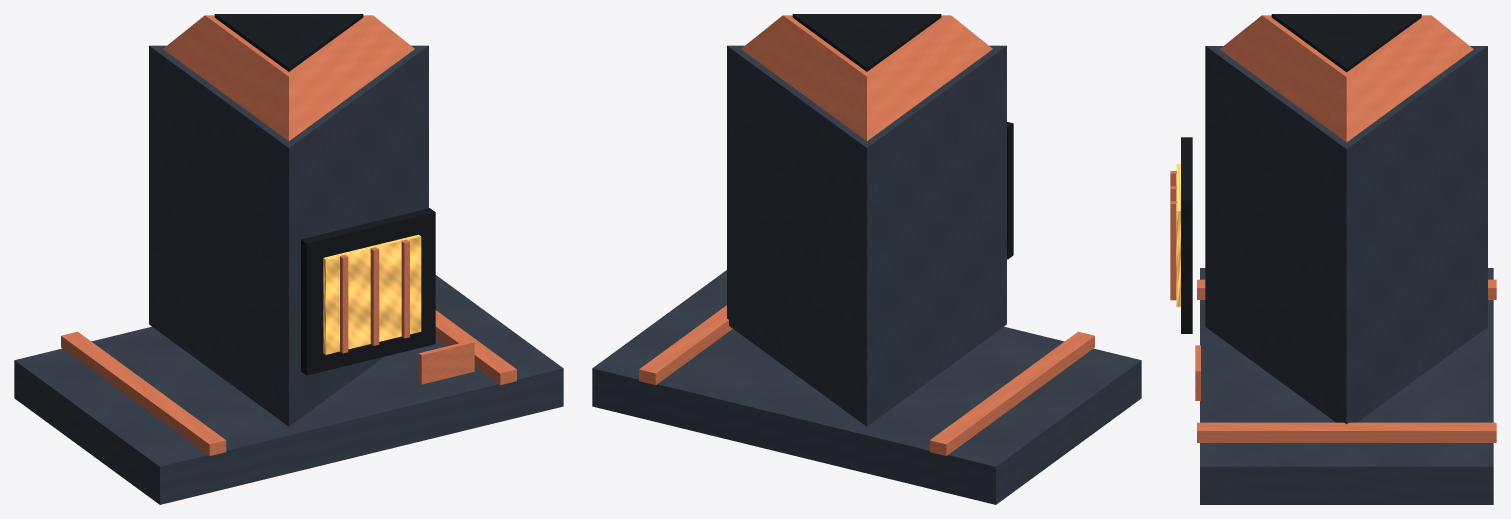
The model's file is atlas100-s026-a01.lod2.glb.
The picture shows the model from 3 angles, left to right: view 1: azimuth 30°, elevation 25°; view 2: azimuth 150°, elevation 25°; view 3: azimuth 270°, elevation 25°; orthographic projection.
Visible parts, largest first — view 1: atlas100-s026-a01:part-003, atlas100-s026-a01:part-000, atlas100-s026-a01:part-004, atlas100-s026-a01:part-006, atlas100-s026-a01:part-007, atlas100-s026-a01:part-005, atlas100-s026-a01:part-001, atlas100-s026-a01:part-002, atlas100-s026-a01:part-011, atlas100-s026-a01:part-009, atlas100-s026-a01:part-010, atlas100-s026-a01:part-008; view 2: atlas100-s026-a01:part-003, atlas100-s026-a01:part-000, atlas100-s026-a01:part-004, atlas100-s026-a01:part-005, atlas100-s026-a01:part-001, atlas100-s026-a01:part-002, atlas100-s026-a01:part-006; view 3: atlas100-s026-a01:part-003, atlas100-s026-a01:part-000, atlas100-s026-a01:part-004, atlas100-s026-a01:part-002, atlas100-s026-a01:part-005, atlas100-s026-a01:part-006, atlas100-s026-a01:part-007, atlas100-s026-a01:part-010, atlas100-s026-a01:part-001.
Part boxes in pixels (x1,y1,x2,y2): atlas100-s026-a01:part-003: [149, 45, 428, 426]; atlas100-s026-a01:part-000: [14, 275, 563, 504]; atlas100-s026-a01:part-004: [163, 15, 414, 140]; atlas100-s026-a01:part-006: [301, 208, 435, 375]; atlas100-s026-a01:part-007: [323, 234, 421, 354]; atlas100-s026-a01:part-005: [214, 14, 363, 71]; atlas100-s026-a01:part-001: [61, 331, 226, 455]; atlas100-s026-a01:part-002: [435, 310, 516, 385]; atlas100-s026-a01:part-011: [418, 340, 474, 384]; atlas100-s026-a01:part-009: [370, 247, 379, 345]; atlas100-s026-a01:part-010: [401, 239, 409, 338]; atlas100-s026-a01:part-008: [340, 254, 348, 353]; atlas100-s026-a01:part-003: [727, 45, 1006, 426]; atlas100-s026-a01:part-000: [592, 270, 1141, 504]; atlas100-s026-a01:part-004: [741, 15, 992, 140]; atlas100-s026-a01:part-005: [792, 14, 941, 71]; atlas100-s026-a01:part-001: [929, 331, 1094, 455]; atlas100-s026-a01:part-002: [639, 305, 732, 385]; atlas100-s026-a01:part-006: [1007, 122, 1013, 259]; atlas100-s026-a01:part-003: [1205, 46, 1487, 424]; atlas100-s026-a01:part-000: [1200, 268, 1493, 504]; atlas100-s026-a01:part-004: [1219, 15, 1473, 142]; atlas100-s026-a01:part-002: [1197, 422, 1496, 442]; atlas100-s026-a01:part-005: [1271, 14, 1421, 72]; atlas100-s026-a01:part-006: [1181, 137, 1192, 333]; atlas100-s026-a01:part-007: [1176, 164, 1180, 306]; atlas100-s026-a01:part-010: [1170, 201, 1176, 300]; atlas100-s026-a01:part-001: [1197, 279, 1496, 299].
Bounding box in the file's own units: 2.88 × 2.53 × 2.
4 materials, 4 textured.
